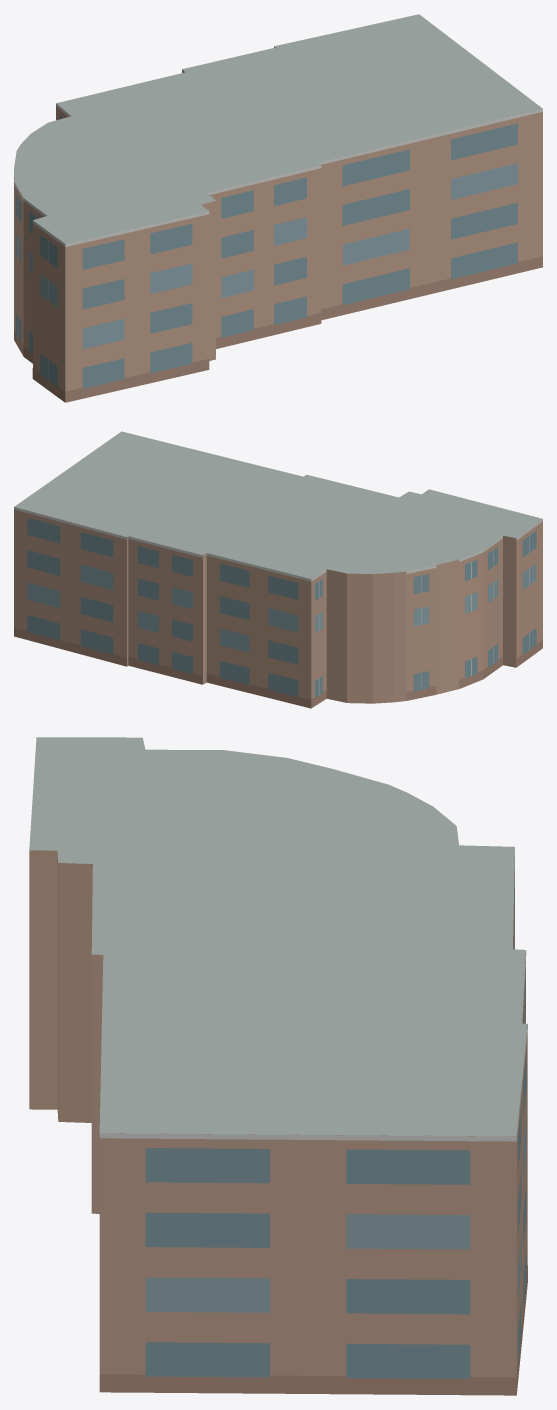
File: survey-upis-32524686.glb
3 renders of one model, top to bottom at view 1: azimuth 30°, elevation 25°; view 2: azimuth 150°, elevation 25°; view 3: azimuth 270°, elevation 25°, orthographic. The views are drawn at different scales.
Parts seen in each view (by area): view 1: survey-upis-32524686.tmp; view 2: survey-upis-32524686.tmp; view 3: survey-upis-32524686.tmp.
Boxes of the visible parts, x1,y1,x2,y2 form: survey-upis-32524686.tmp: (14, 14, 542, 402); survey-upis-32524686.tmp: (14, 431, 542, 708); survey-upis-32524686.tmp: (29, 737, 527, 1395).
Bounding box in the file's own units: 41.07 × 12.43 × 21.69.
